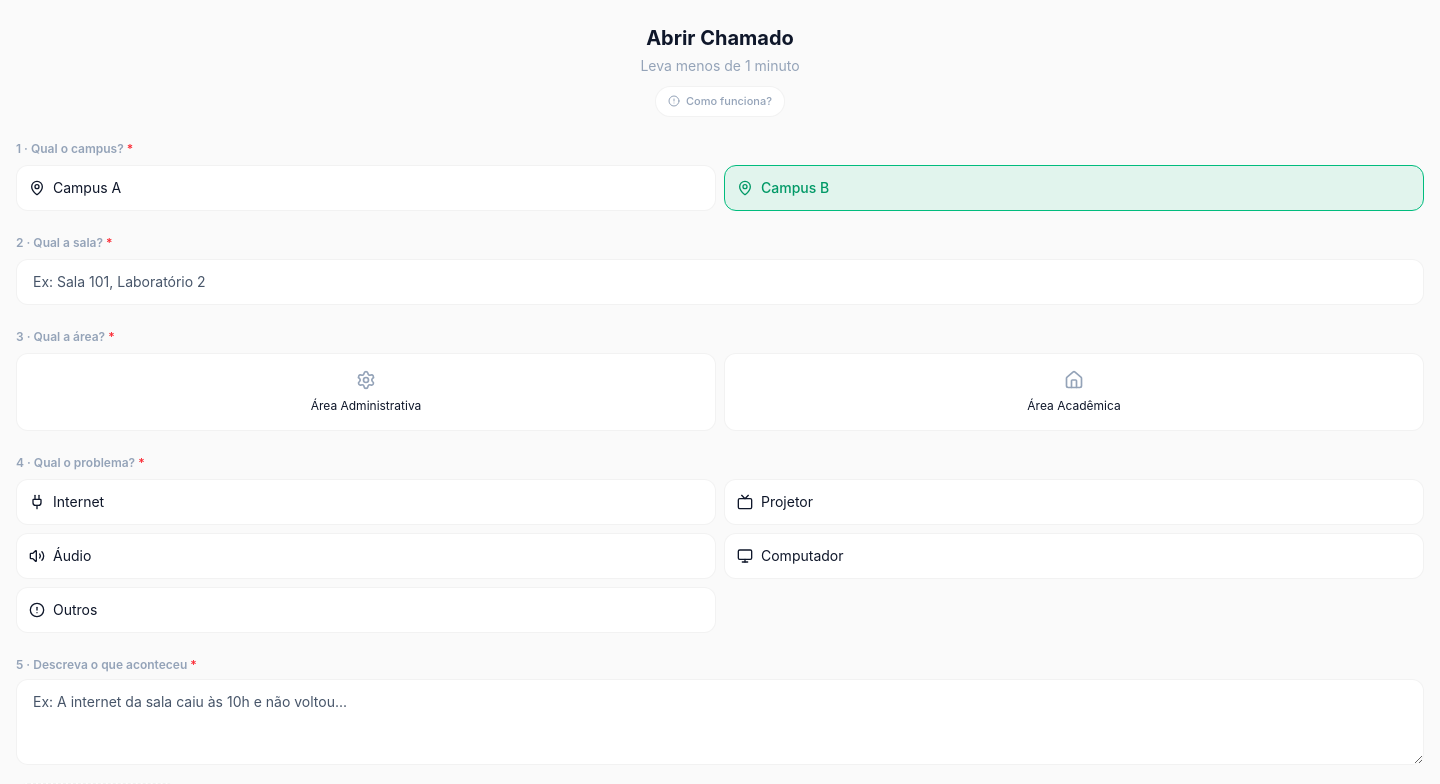
Test case: RoomTicketForm › preenche a sala ao clicar em uma sugestão
Type "Lab" into the field labelled "2 · Qual a sala? *".
click(720, 282); type("Lab")  # box 16,258 -> 1424,304
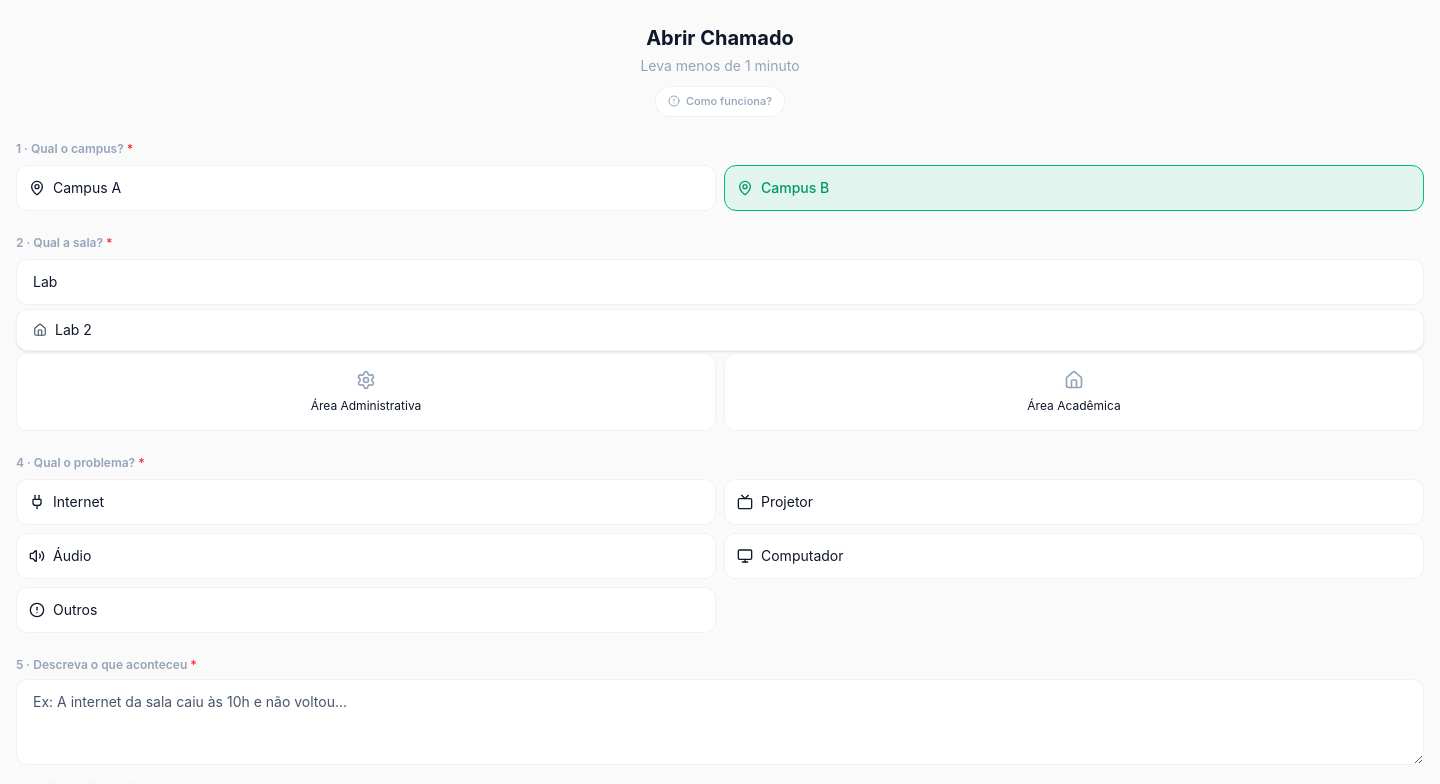
Press the mouse on the button "Lab 2" at (73, 329), box 17,310 -> 1423,350
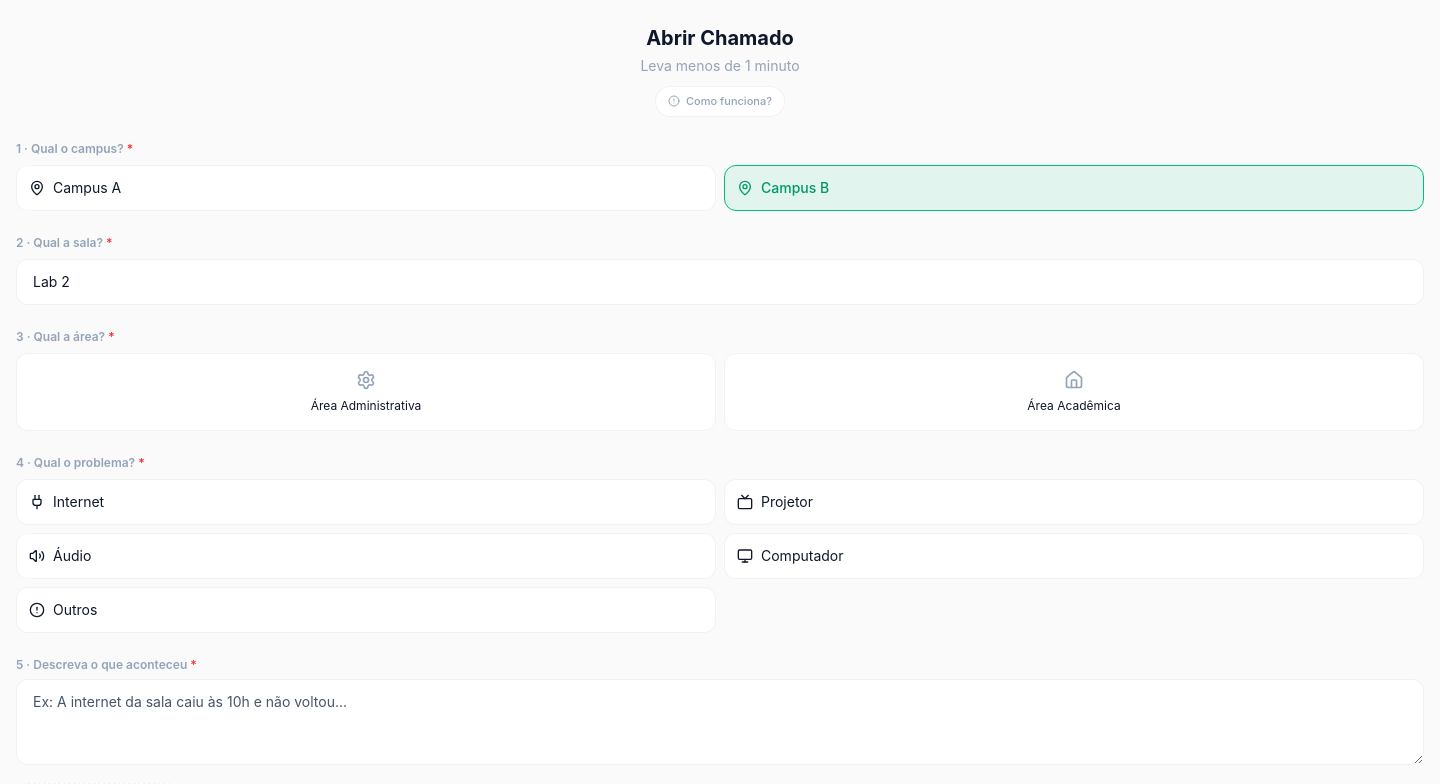
expect the field labelled "2 · Qual a sala? *" holds "Lab 2": met, box 16,258 -> 1424,304
